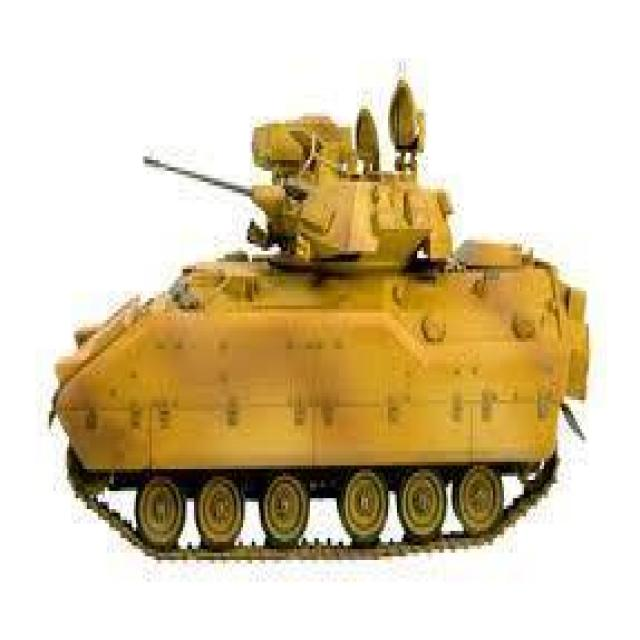Tanks: (56, 116, 593, 560)
